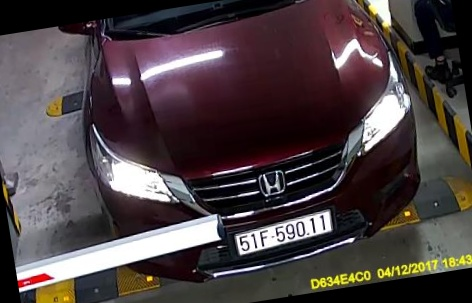plate: (230, 211, 343, 256)
